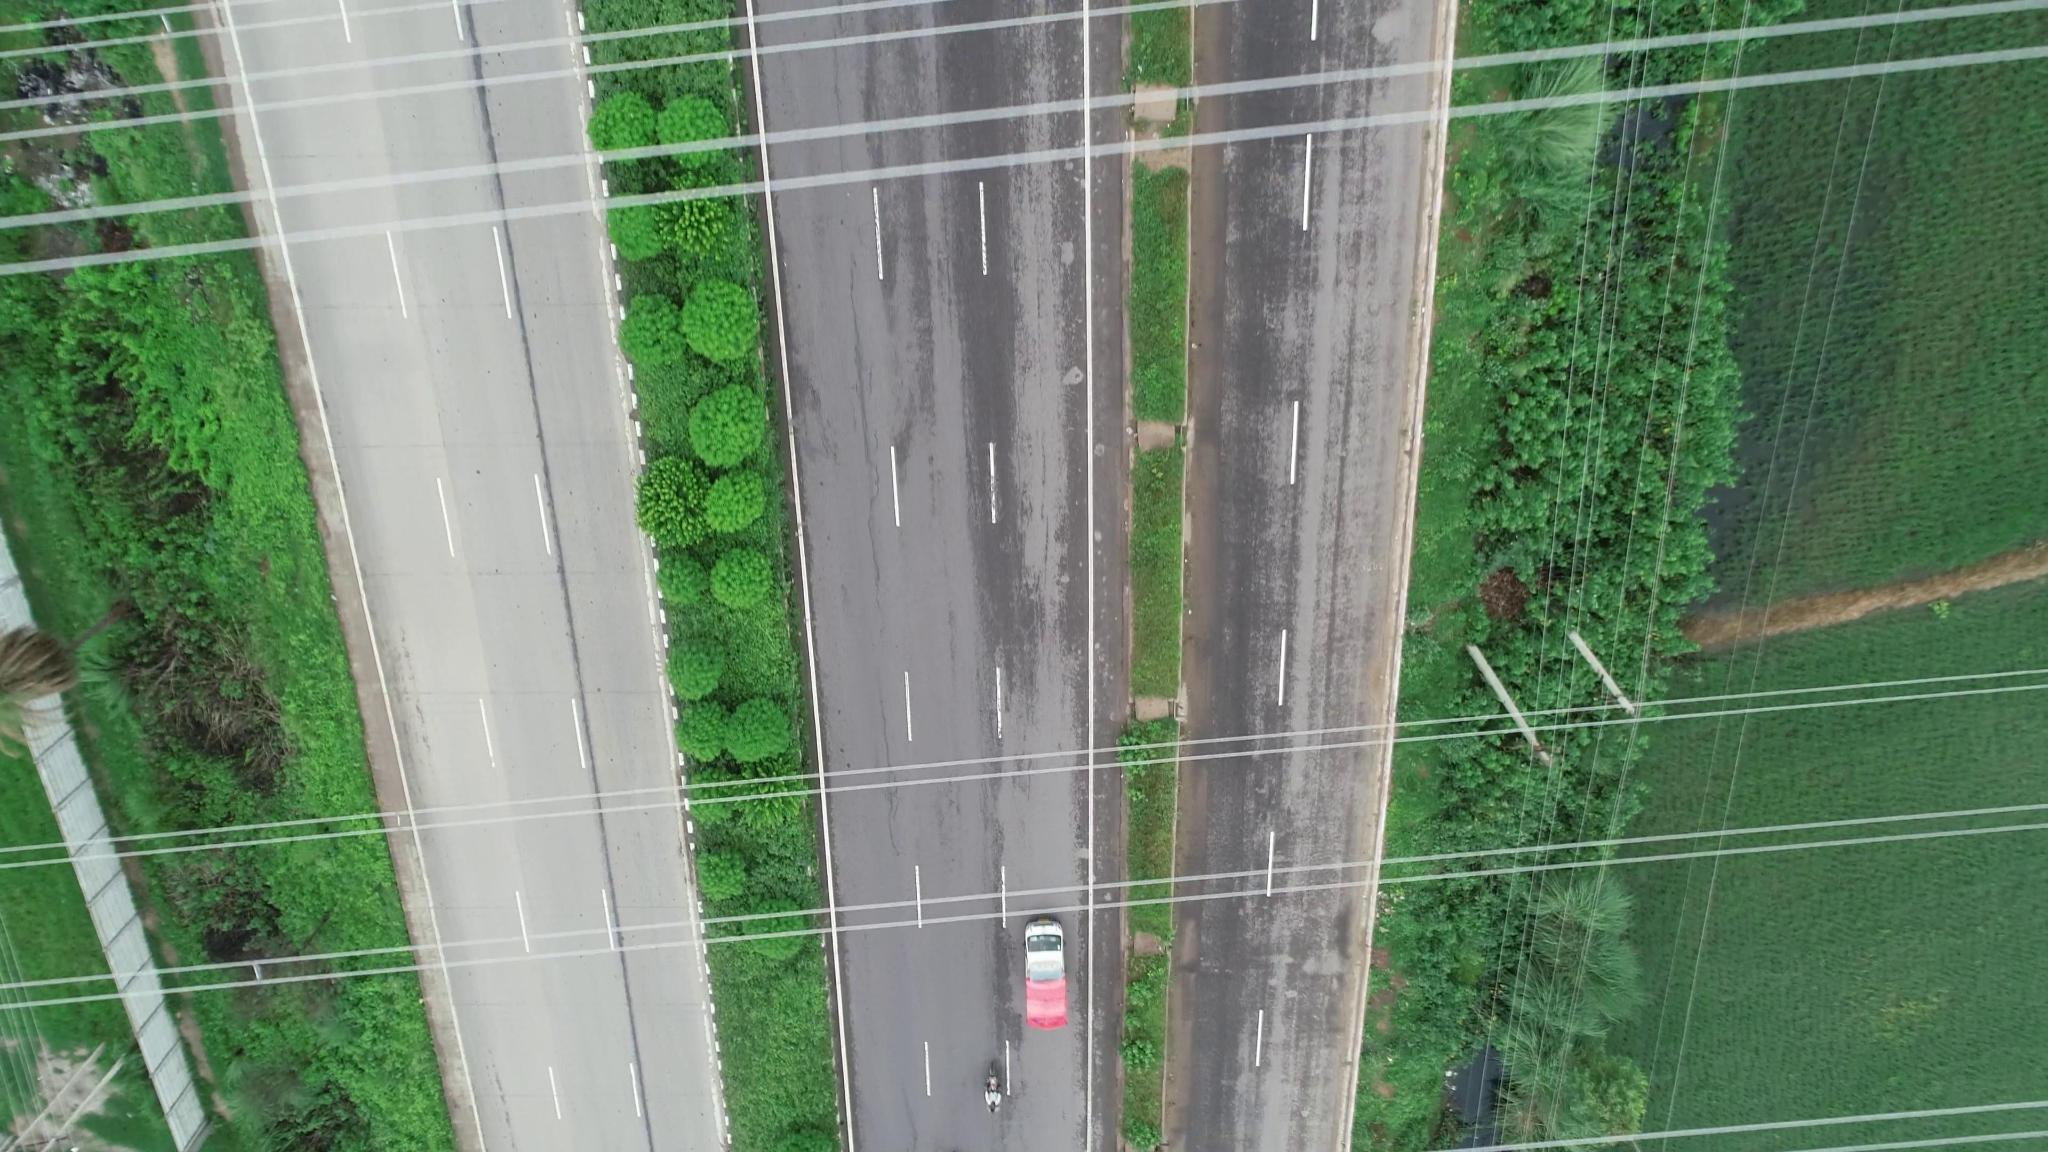Cracks: (809, 269, 902, 647)
